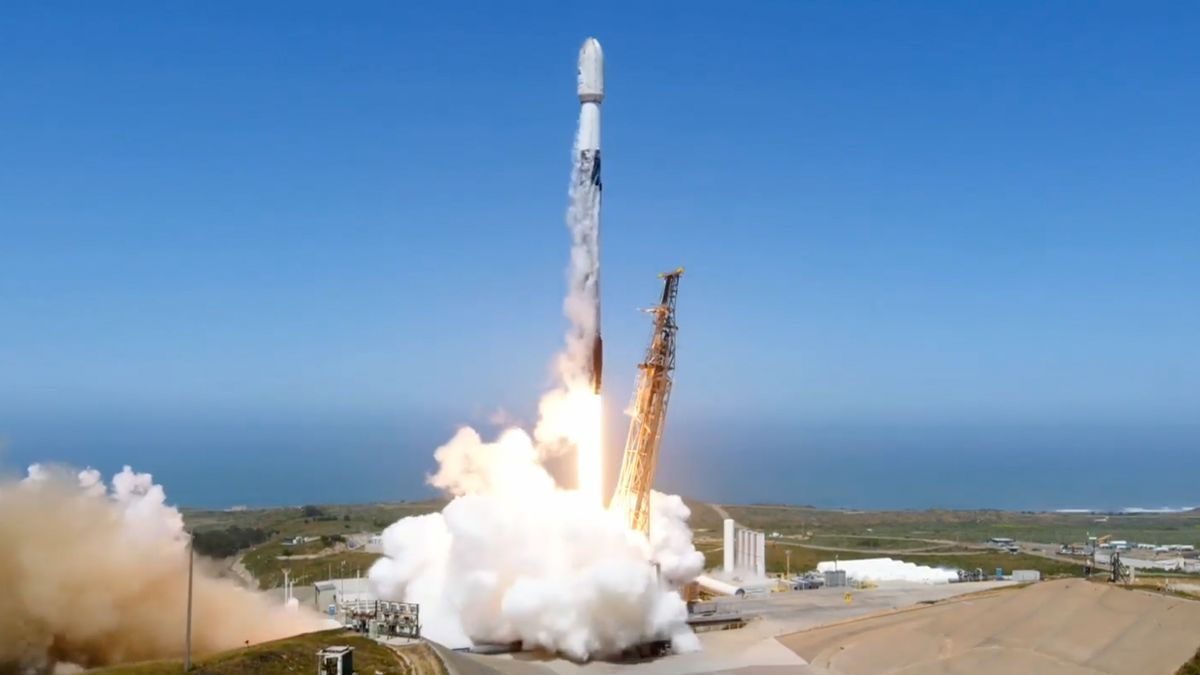falcon: (558, 31, 611, 465)
